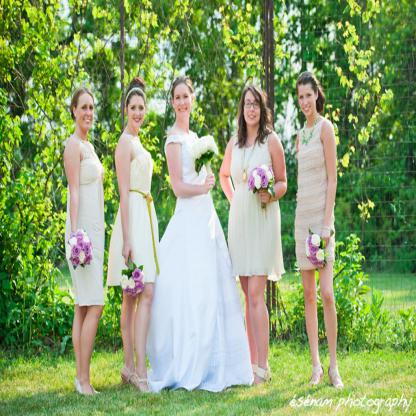face: (77, 93, 95, 129), (175, 85, 193, 120), (129, 95, 146, 128), (245, 94, 261, 126), (299, 86, 316, 116)
